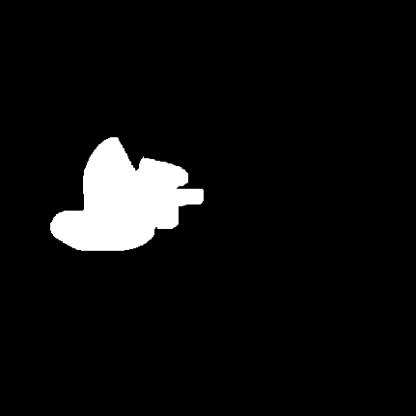malignant: (43, 125, 212, 263)
